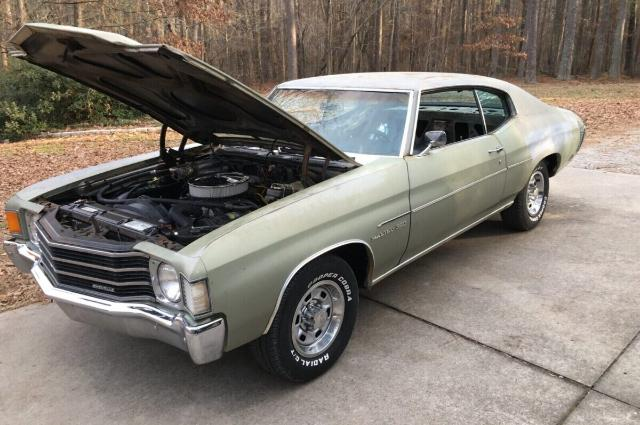chevelle-1972: (4, 23, 585, 381)
